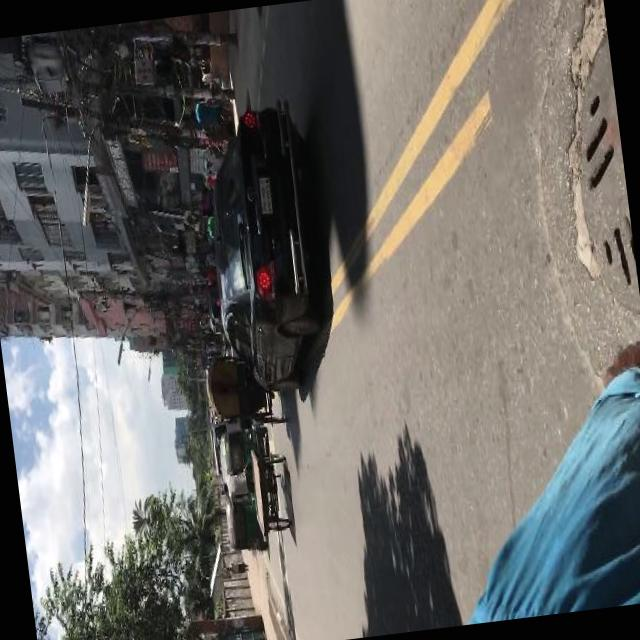car: (193, 96, 334, 402)
motorcycle: (213, 442, 295, 544), (201, 350, 289, 433), (216, 423, 272, 483), (220, 492, 266, 554)
